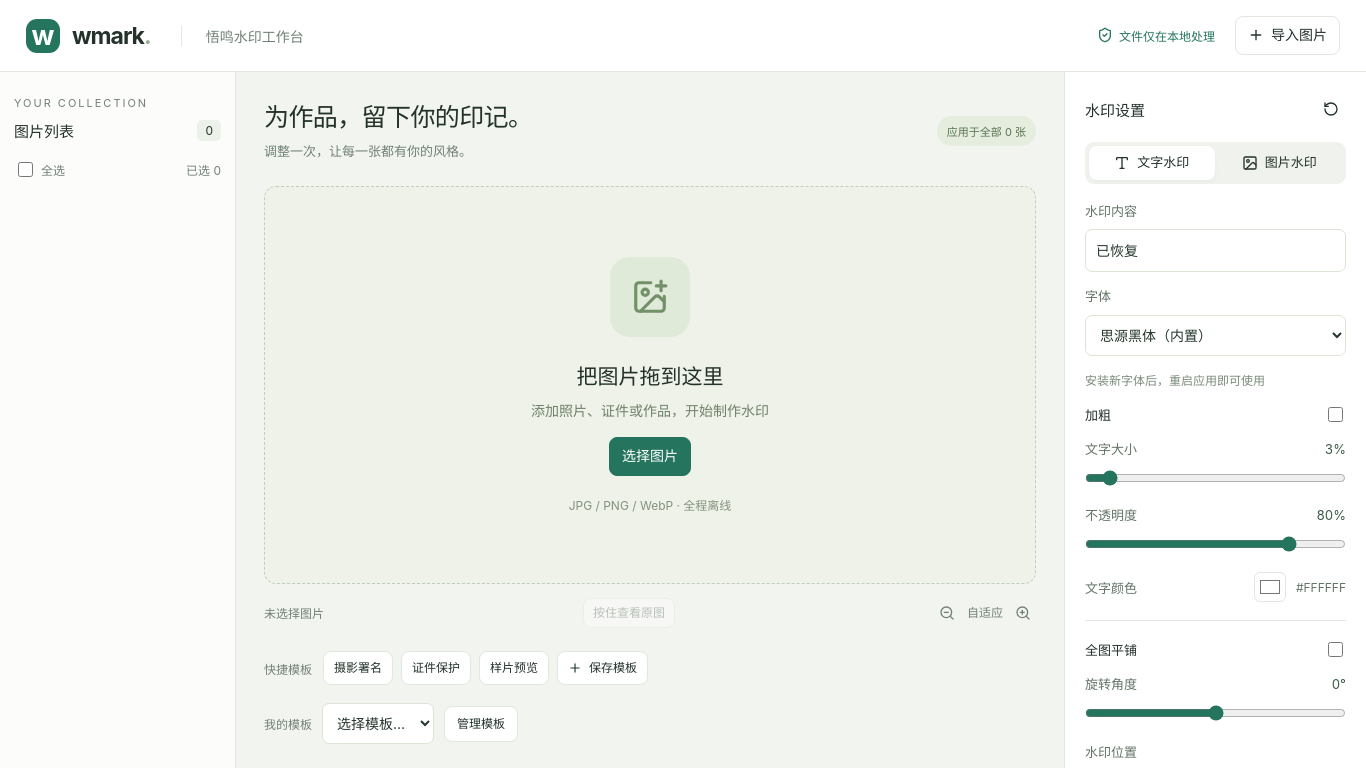
Scenario: R05 restores persisted template and last settings
Expected: the field labelled "水印内容" holds "已恢复", [1085, 229, 1346, 272]
Select "我的模板一" in the dropdown named "选择已保存模板": (378, 724) [322, 703, 434, 744]
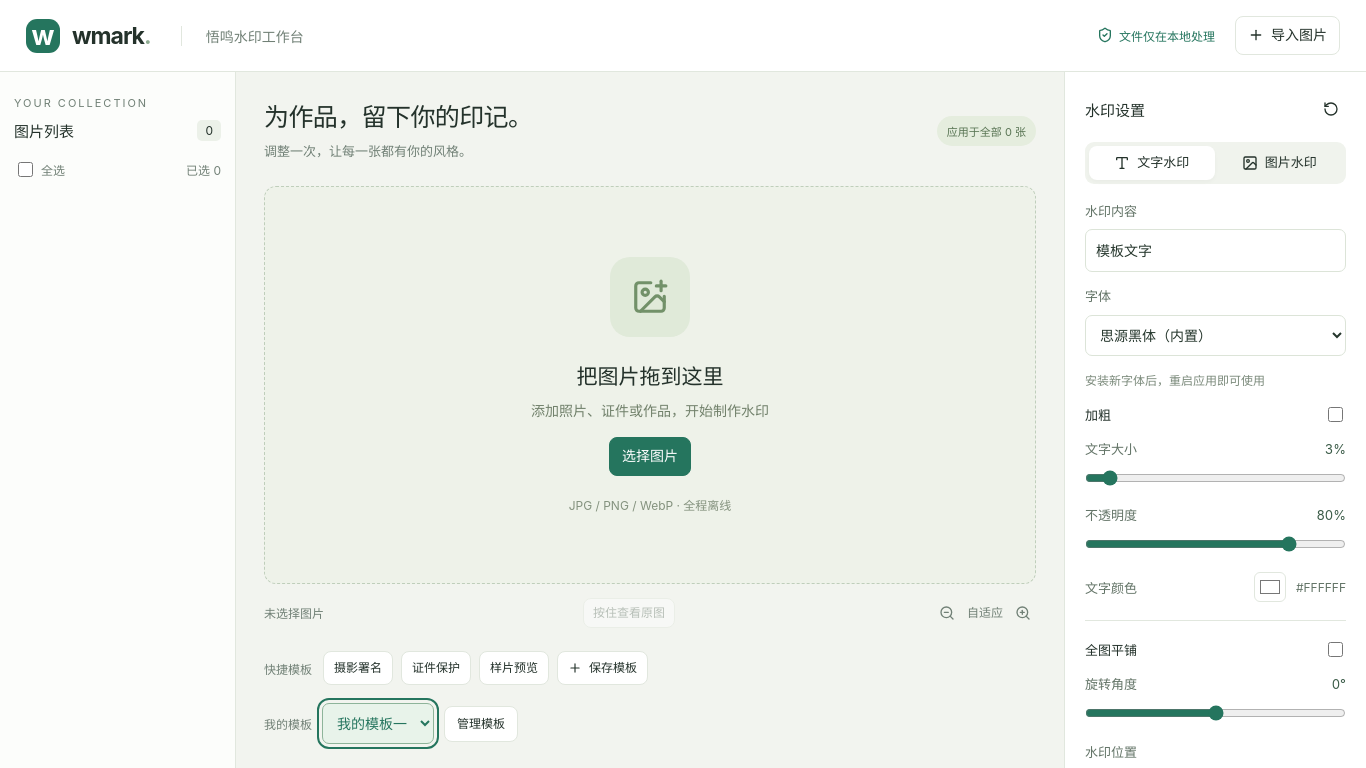
Expected: the field labelled "水印内容" holds "模板文字", [1085, 229, 1346, 272]
